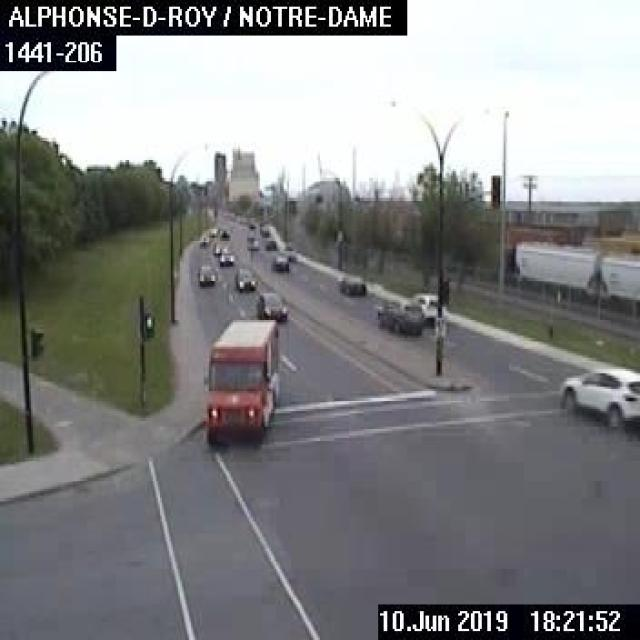vehicle: (198, 312, 281, 443), (558, 364, 638, 426), (372, 296, 422, 336), (254, 289, 290, 324), (410, 289, 438, 321), (334, 271, 366, 296), (232, 265, 256, 293), (194, 260, 215, 286), (217, 244, 234, 266), (271, 251, 288, 271), (262, 236, 274, 251)
